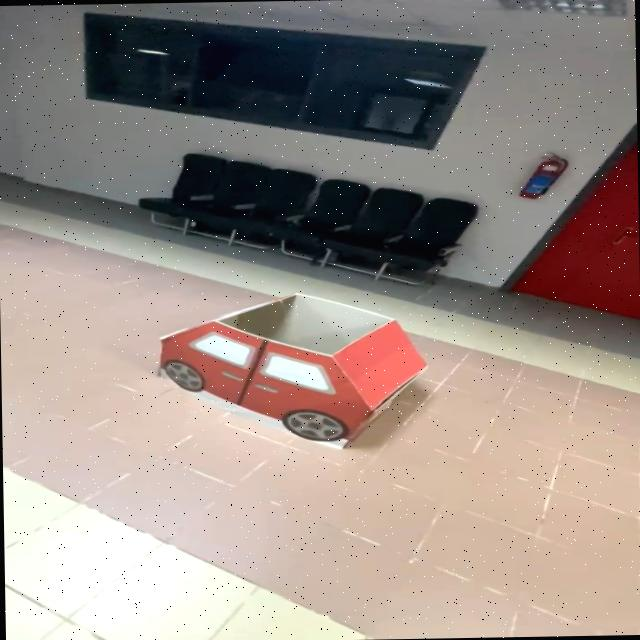red_car: (115, 282, 463, 462)
